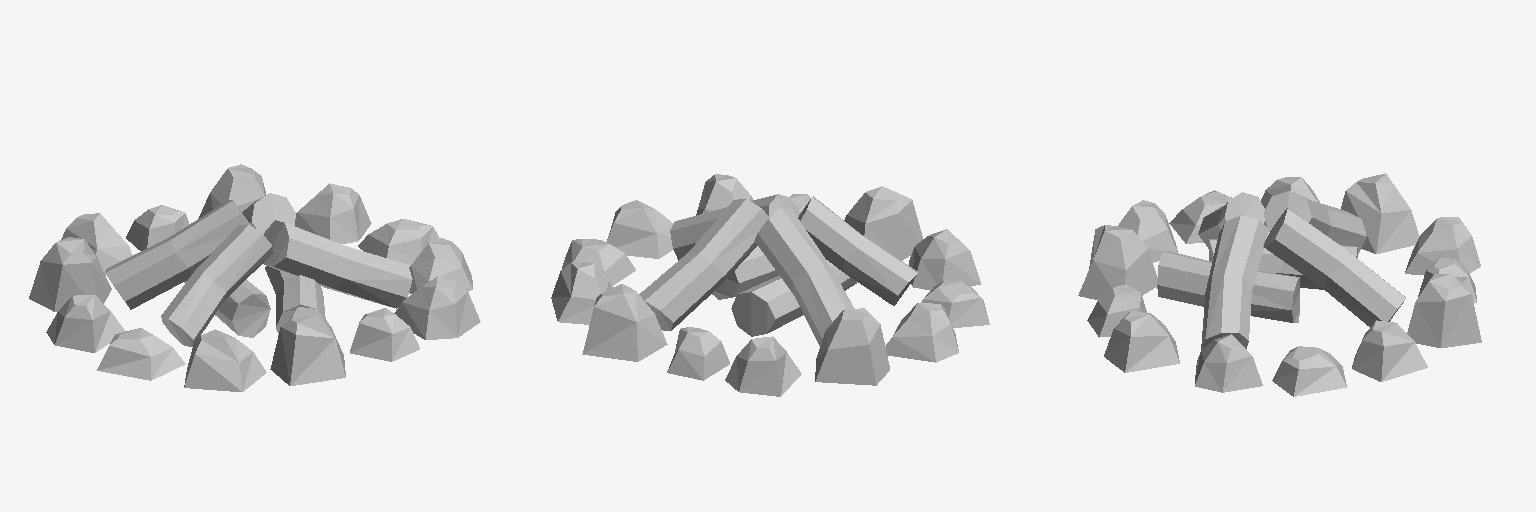
File: Bonfire.obj
The picture shows the model from 3 angles: view 1: azimuth 30°, elevation 25°; view 2: azimuth 150°, elevation 25°; view 3: azimuth 270°, elevation 25°; orthographic projection.
Visible parts, largest first — view 1: Bonfire-4, Bonfire, Bonfire-3, Bonfire-2; view 2: Bonfire, Bonfire-3, Bonfire-4, Bonfire-2; view 3: Bonfire, Bonfire-4, Bonfire-3, Bonfire-2.
Part boxes in pixels (x1,y1,x2,y2): Bonfire-4: (61, 183, 480, 391); Bonfire: (105, 195, 412, 343); Bonfire-3: (29, 164, 438, 385); Bonfire-2: (115, 193, 314, 346); Bonfire: (639, 194, 918, 345); Bonfire-3: (562, 186, 958, 385); Bonfire-4: (551, 174, 989, 396); Bonfire-2: (645, 194, 916, 336); Bonfire: (1157, 192, 1405, 349); Bonfire-4: (1087, 190, 1480, 392); Bonfire-3: (1078, 173, 1481, 396); Bonfire-2: (1202, 191, 1403, 348).
Size of the model in its own units: 0.4066 by 0.1122 by 0.3624.